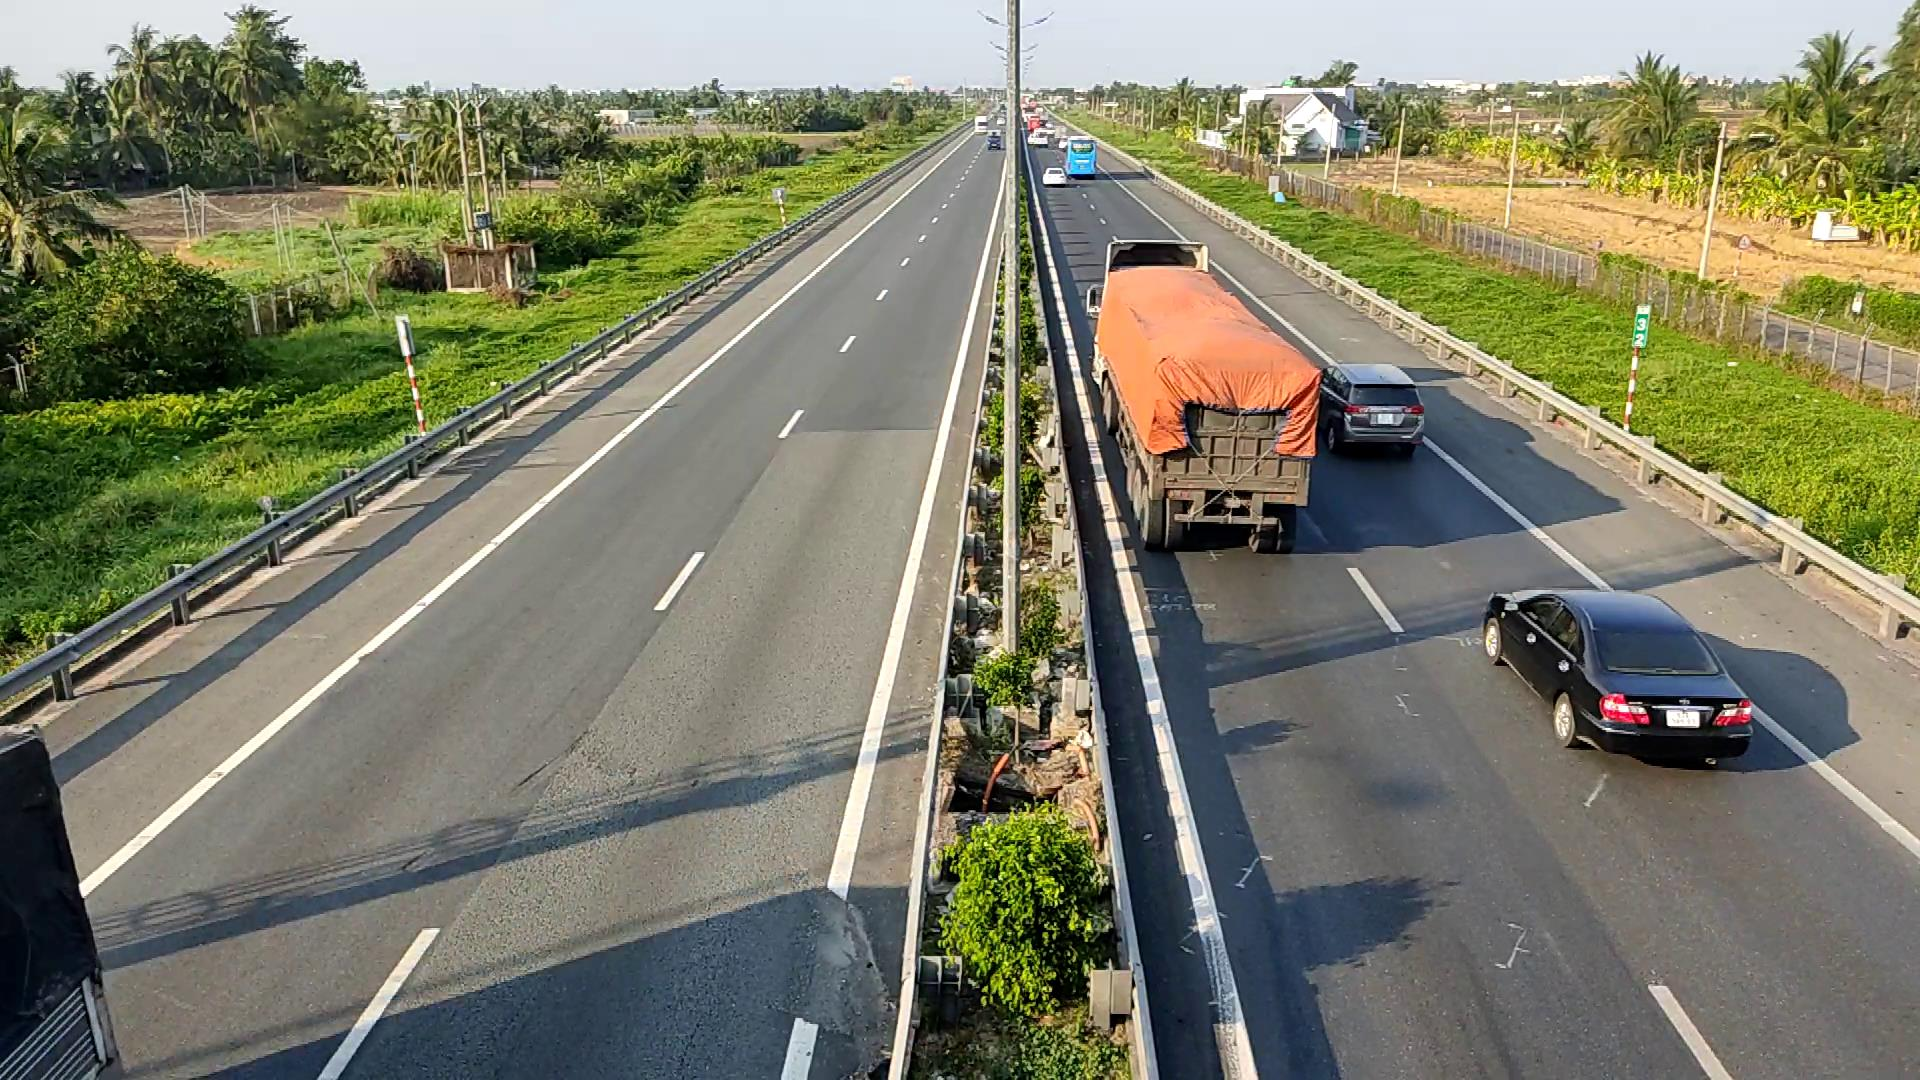car: (1480, 585, 1754, 766), (1316, 361, 1425, 455)
truck: (1089, 243, 1323, 554)
